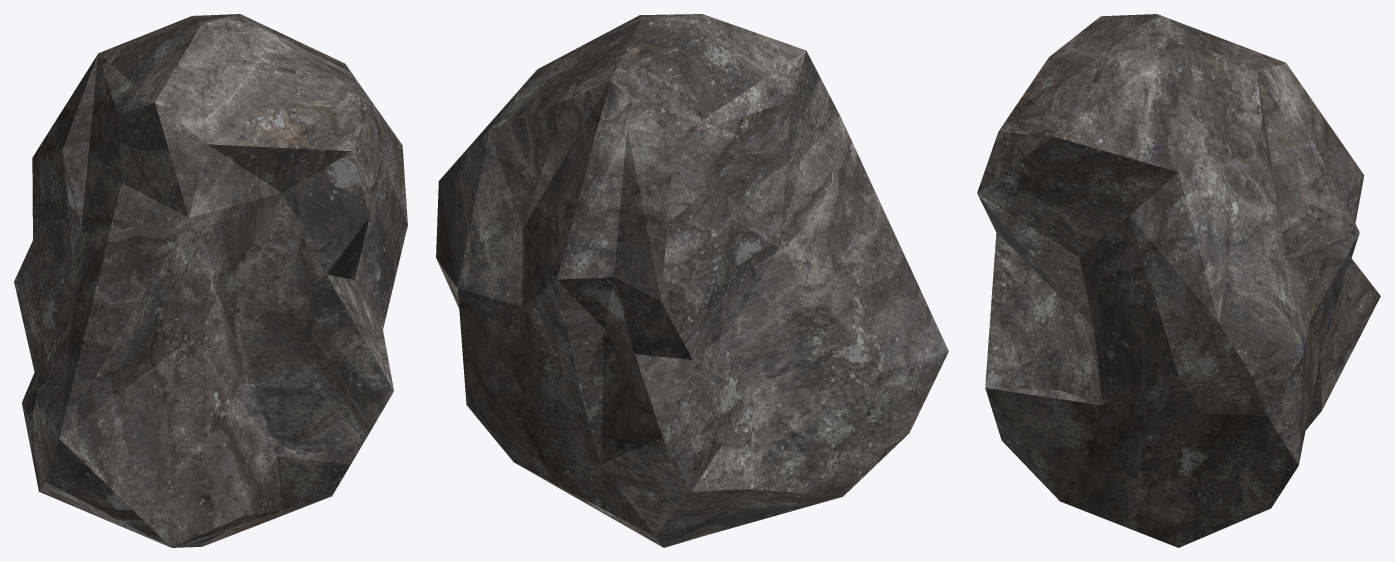
The model's file is LampLight_AltRock_2.FBX.
3 views of the same model, side by side, from view 1: azimuth 30°, elevation 25°; view 2: azimuth 150°, elevation 25°; view 3: azimuth 270°, elevation 25° (orthographic).
Visible parts, largest first — view 1: Bg_Rock_5; view 2: Bg_Rock_5; view 3: Bg_Rock_5.
Boxes of the visible parts, x1,y1,x2,y2 form: Bg_Rock_5: (14, 14, 407, 547); Bg_Rock_5: (436, 14, 948, 547); Bg_Rock_5: (977, 14, 1380, 547).
Bounding box in the file's own units: 62.37 × 73.08 × 51.9.
